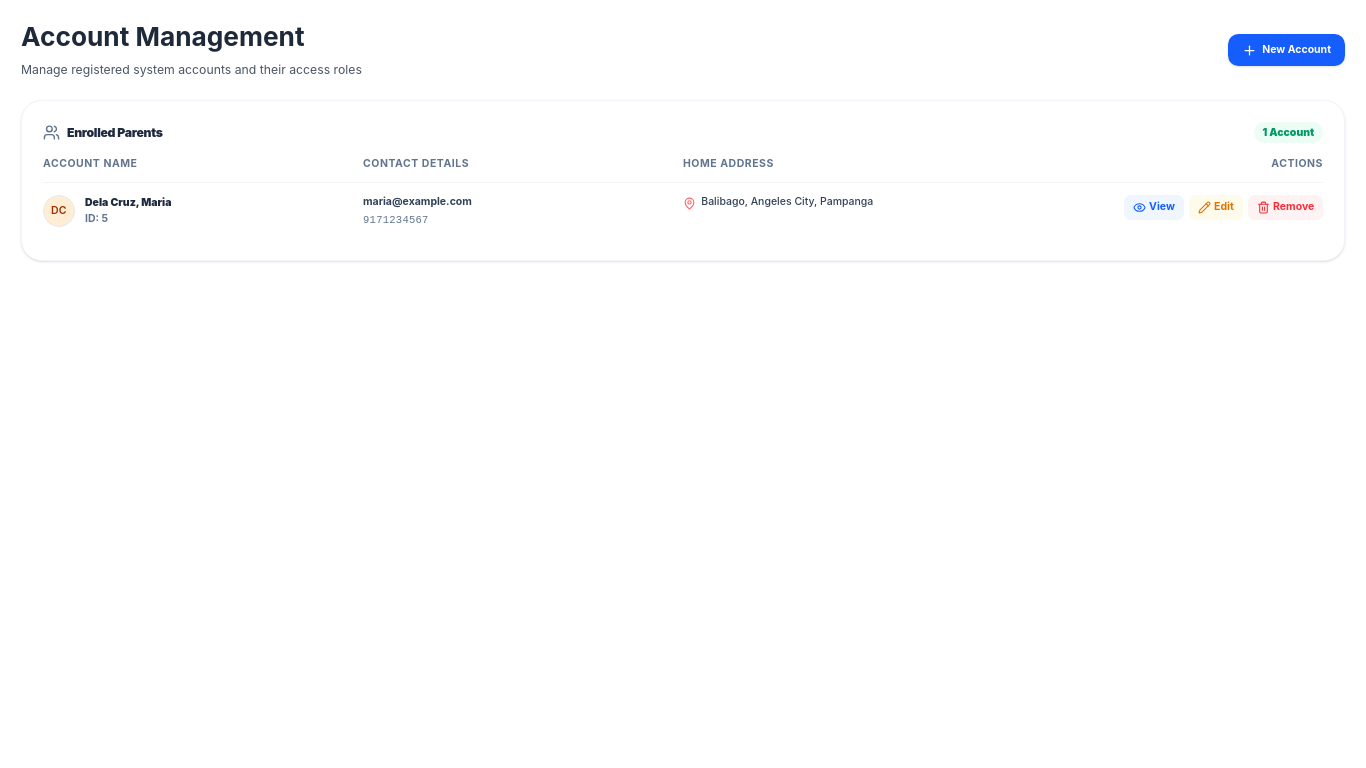
Scenario: AccountManagement add/edit form is a popup › shows no form until New Account is clicked, then opens it in a dialog
The image size is (1366, 768).
Click the button "New Account" at (1286, 50), box [1228,34,1345,66]
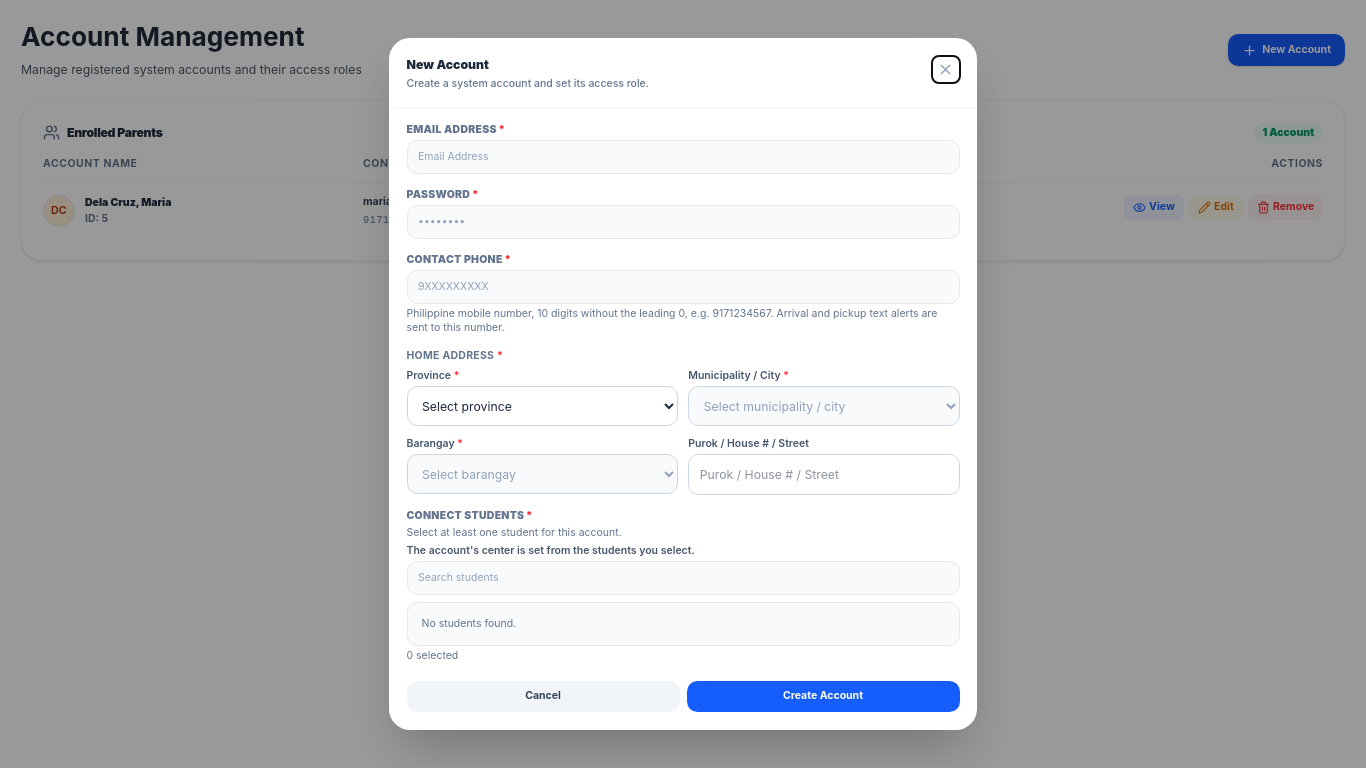
Expected: the button "Create Account" is shown, [686,681,960,712]
Expected: the number of forms is 1, [406,109,960,712]
